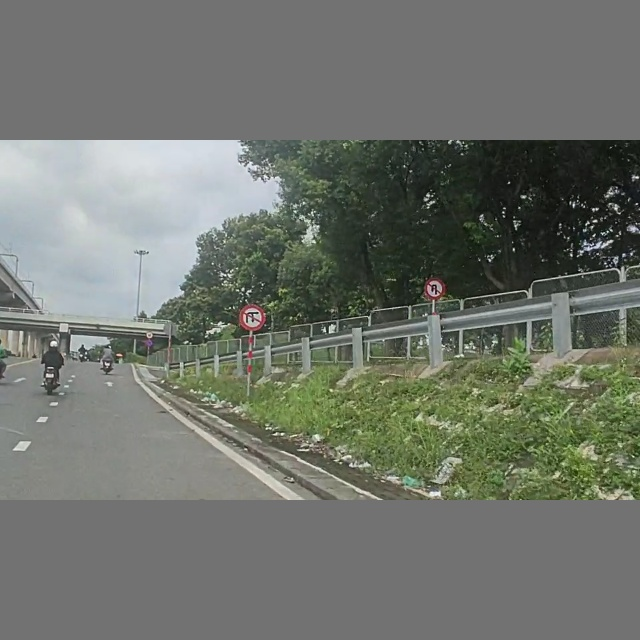P.124a*: (425, 278, 445, 299)
P.124d: (239, 304, 266, 331)
P.127*40: (146, 331, 153, 338)
P.130: (145, 340, 153, 346)
